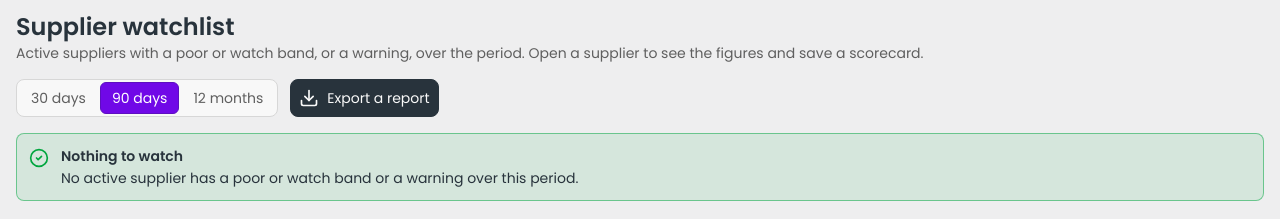
Test: watchlist › offers only the performance report to someone who cannot read audits
Click the button "Export a report" at (364, 98), box left=290, top=79, right=439, bottom=117
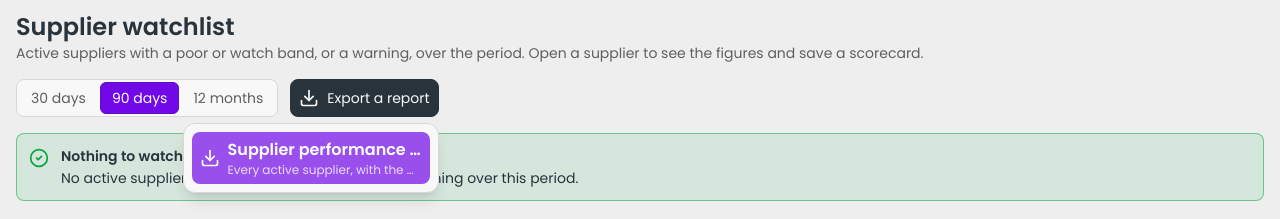
Expected: the menu item "Supplier performance" is shown, left=192, top=132, right=430, bottom=184
